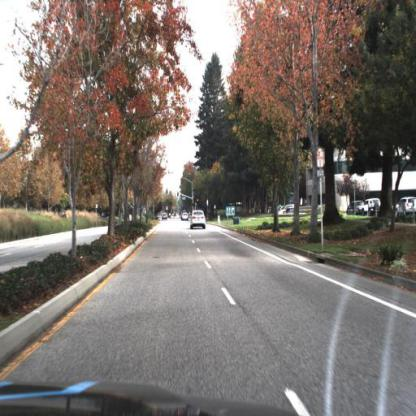car: (339, 195, 364, 217), (394, 196, 416, 220), (190, 209, 208, 231), (348, 199, 366, 218), (366, 198, 382, 214), (366, 198, 382, 213)
